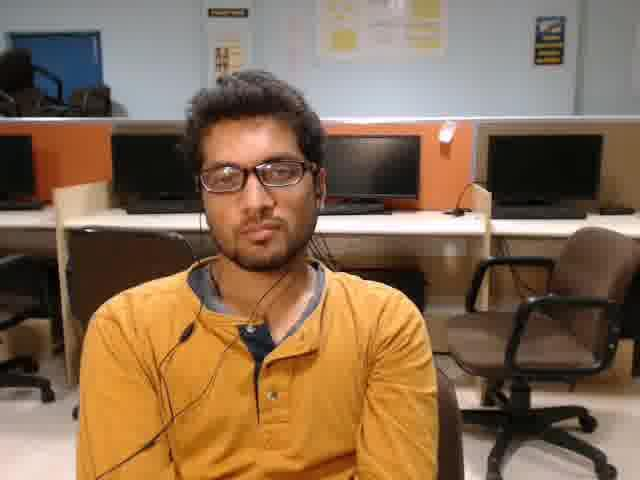bosan: (201, 120, 310, 264)
